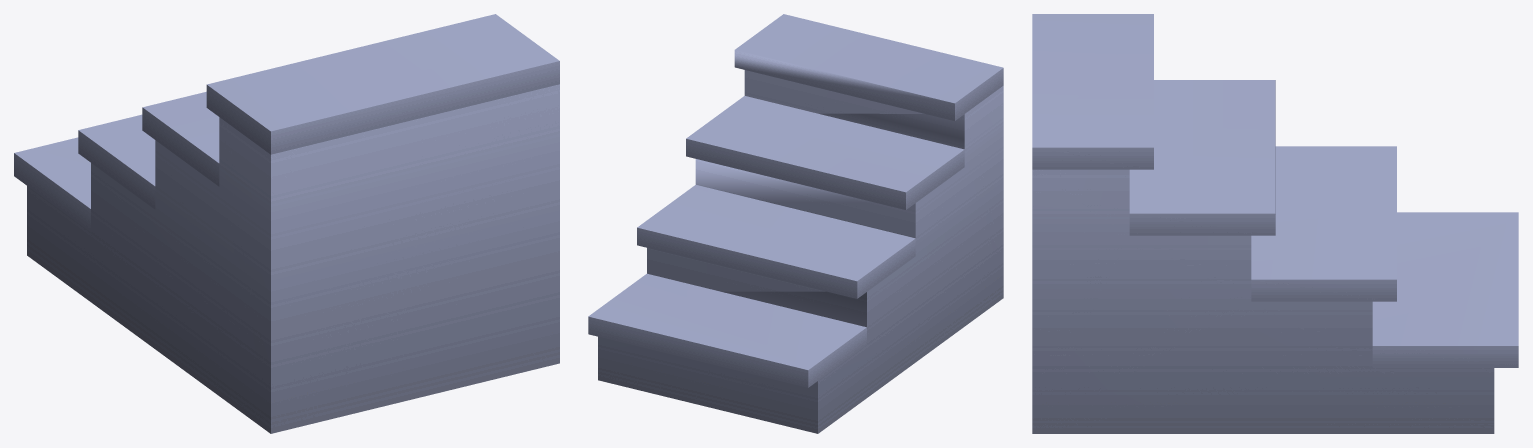
Rendered from stairs-closed-short.glb.
3 renders of one model, left to right at view 1: azimuth 30°, elevation 25°; view 2: azimuth 150°, elevation 25°; view 3: azimuth 270°, elevation 25°, orthographic. The views are drawn at different scales.
Visible parts, largest first — view 1: stairs-closed-short; view 2: stairs-closed-short; view 3: stairs-closed-short.
Part boxes in pixels (bbox=[...]): stairs-closed-short: bbox=[14, 14, 559, 433]; stairs-closed-short: bbox=[588, 14, 1003, 433]; stairs-closed-short: bbox=[1032, 14, 1518, 433].
Size of the model in its own units: 1.3 by 1.3 by 2.
Materials: 1 (1 with a texture image).
